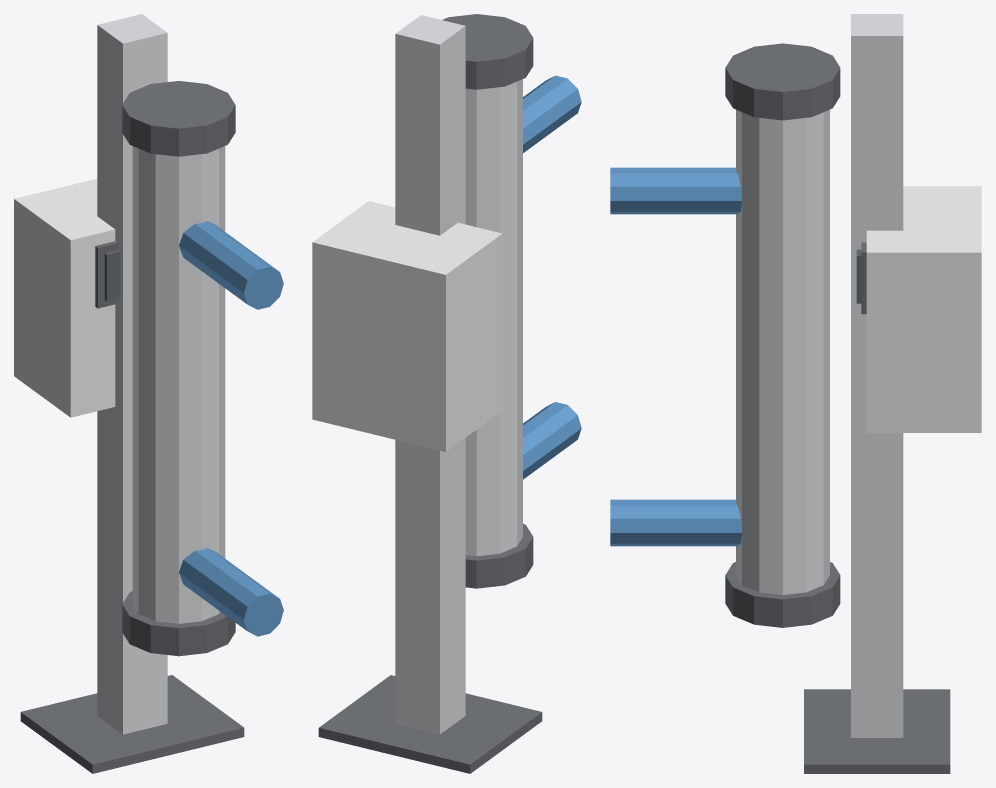
Rendered from vertical-farm-and-hydroponics-tower-vertical-farm-and--778d2988__38369.glb.
3 views of the same model, side by side, from view 1: azimuth 30°, elevation 25°; view 2: azimuth 150°, elevation 25°; view 3: azimuth 270°, elevation 25° (orthographic).
Visible parts, largest first — view 1: vertical-farm-and-hydroponics-tower-uv-steriliser; view 2: vertical-farm-and-hydroponics-tower-uv-steriliser; view 3: vertical-farm-and-hydroponics-tower-uv-steriliser.
Part boxes in pixels (x1,y1,x2,y2): vertical-farm-and-hydroponics-tower-uv-steriliser: (14, 14, 283, 773); vertical-farm-and-hydroponics-tower-uv-steriliser: (312, 14, 581, 773); vertical-farm-and-hydroponics-tower-uv-steriliser: (610, 14, 981, 773).
Size of the model in its own units: 0.3399 by 1.5 by 0.71.
